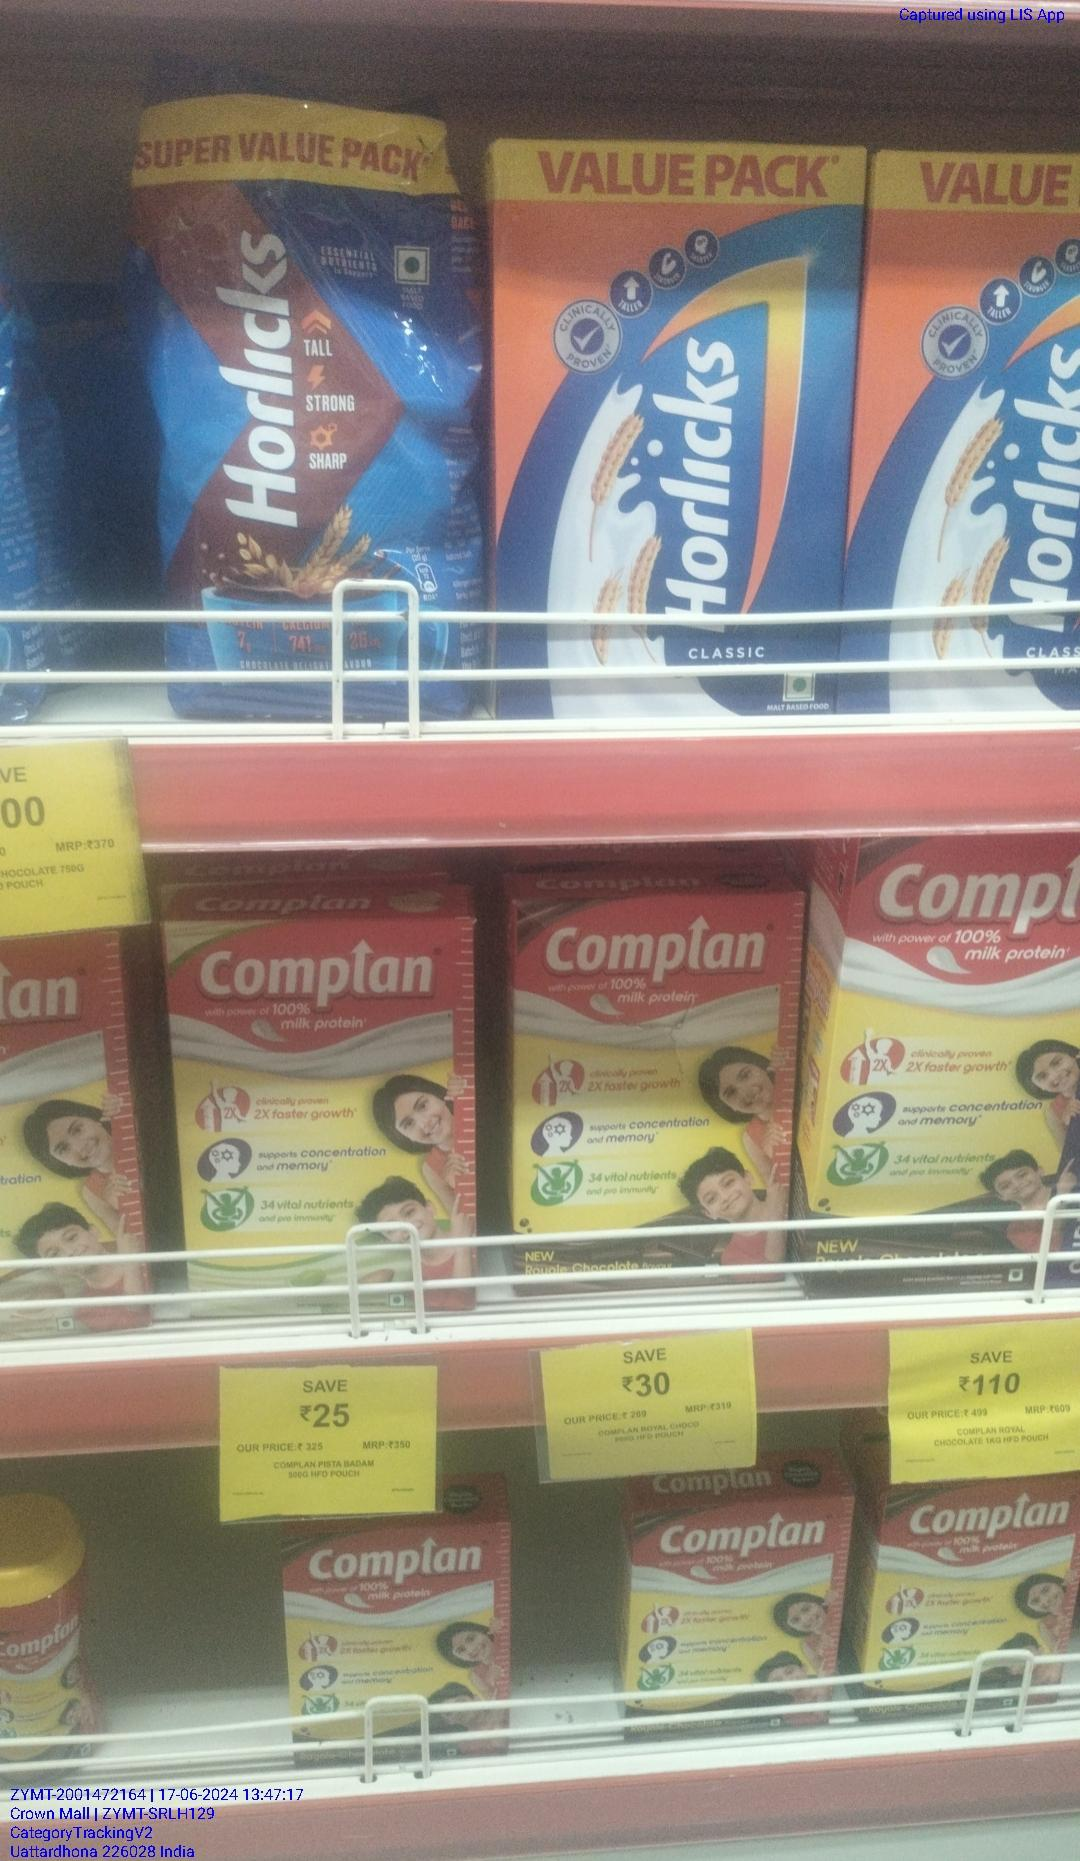COMPLAN_CHOCOLATE_200_GMS_PACK: (510, 888, 795, 1284), (287, 1532, 510, 1756), (630, 1506, 841, 1731), (872, 1497, 1072, 1717)
COMPLAN_CHOCOLATE_500_GMS_PACK: (814, 839, 1080, 1294)
COMPLAN_KESAR_BADAM_200_GMS_PACK: (175, 904, 473, 1315)
HORLICK_CHOCOLATE_750_G_POUCH: (132, 57, 471, 718)
HORLICK_CLASSIC_MALT_500_G_PACK: (492, 132, 849, 715), (865, 140, 1080, 725)
